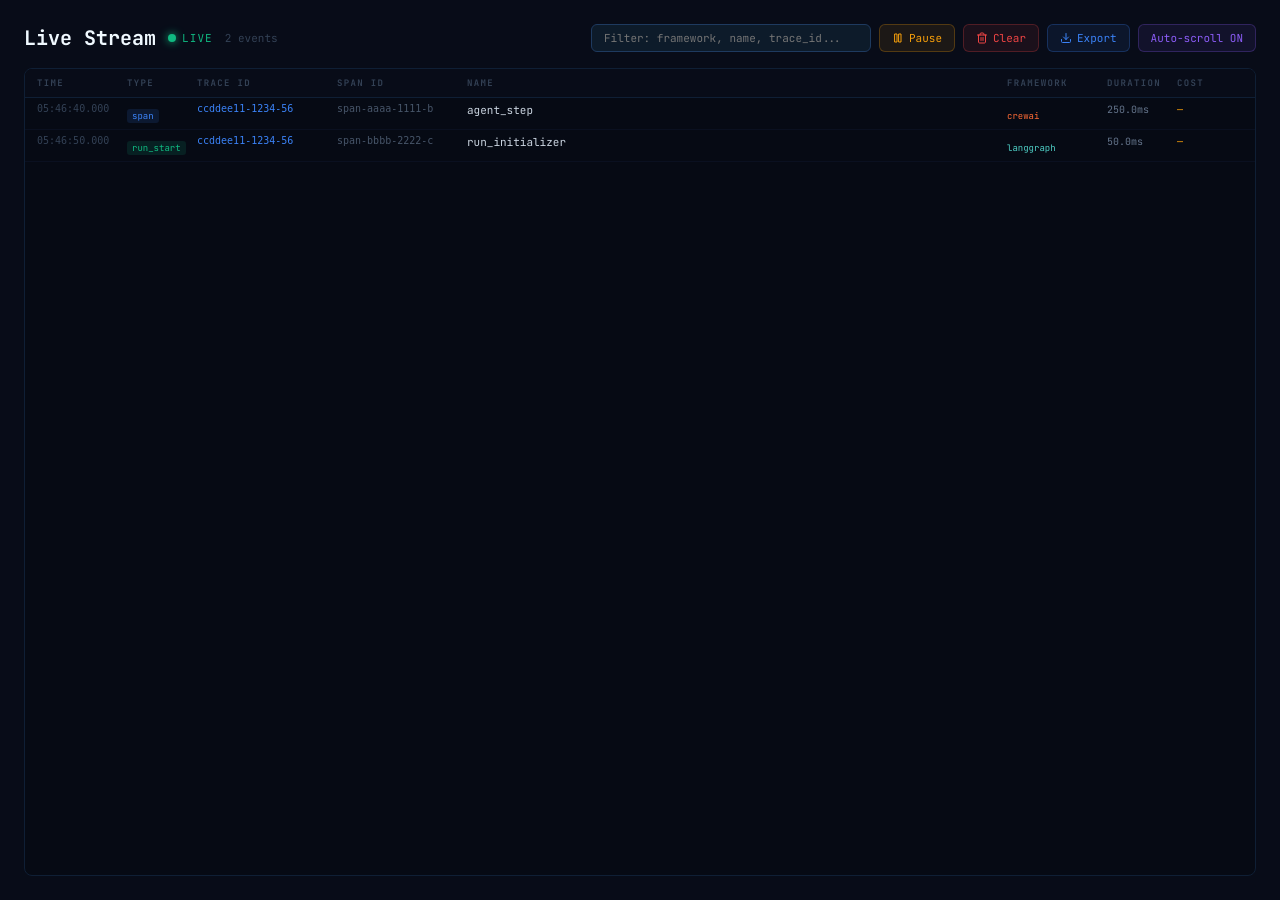
Test case: LiveStream › auto-scroll toggle changes button label
This screenshot has width=1280, height=900.
Click the button "Auto-scroll ON".
click(1197, 38)  # box [1138,24,1256,52]
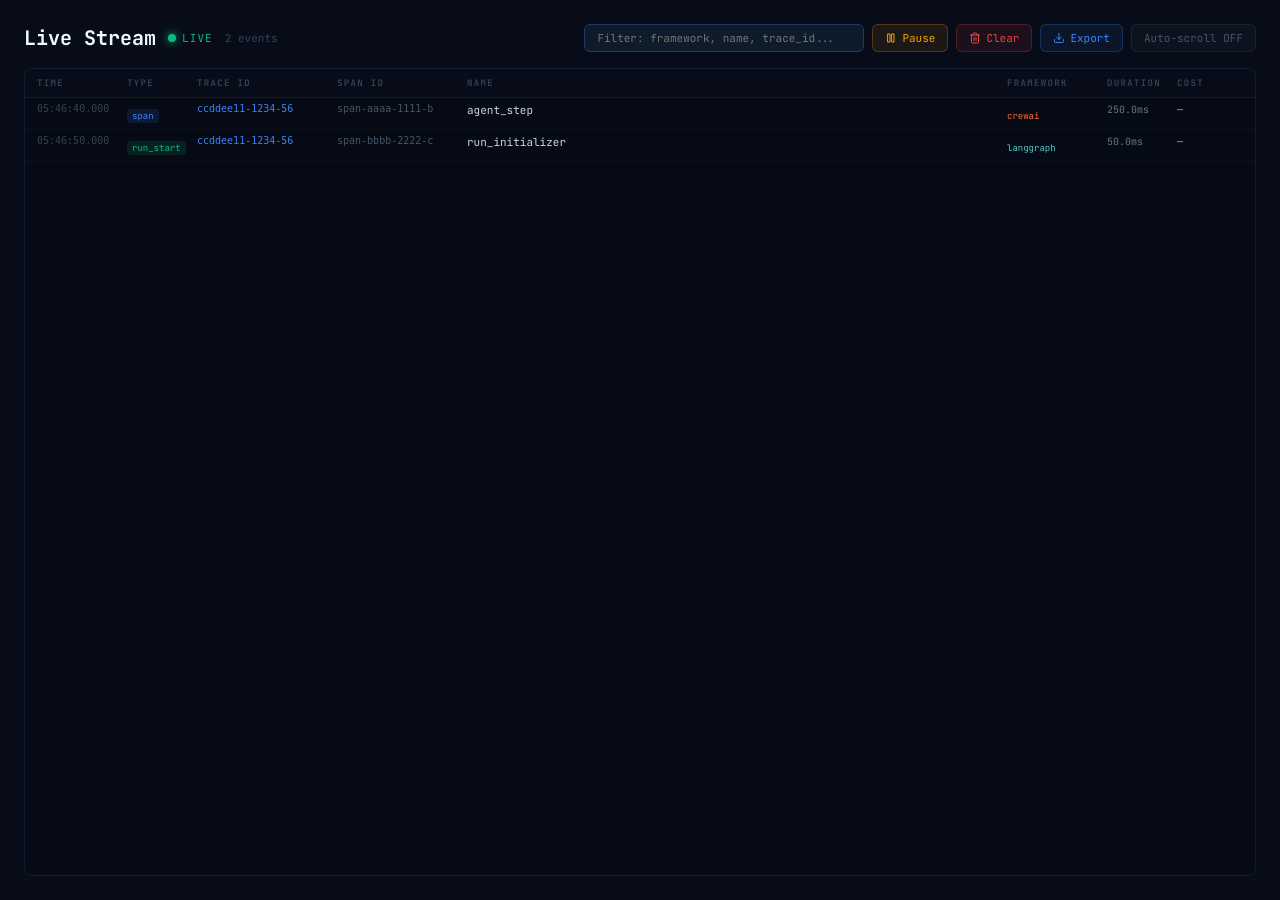
Expected: the button "Auto-scroll OFF" is shown, [1131,24,1256,52]
